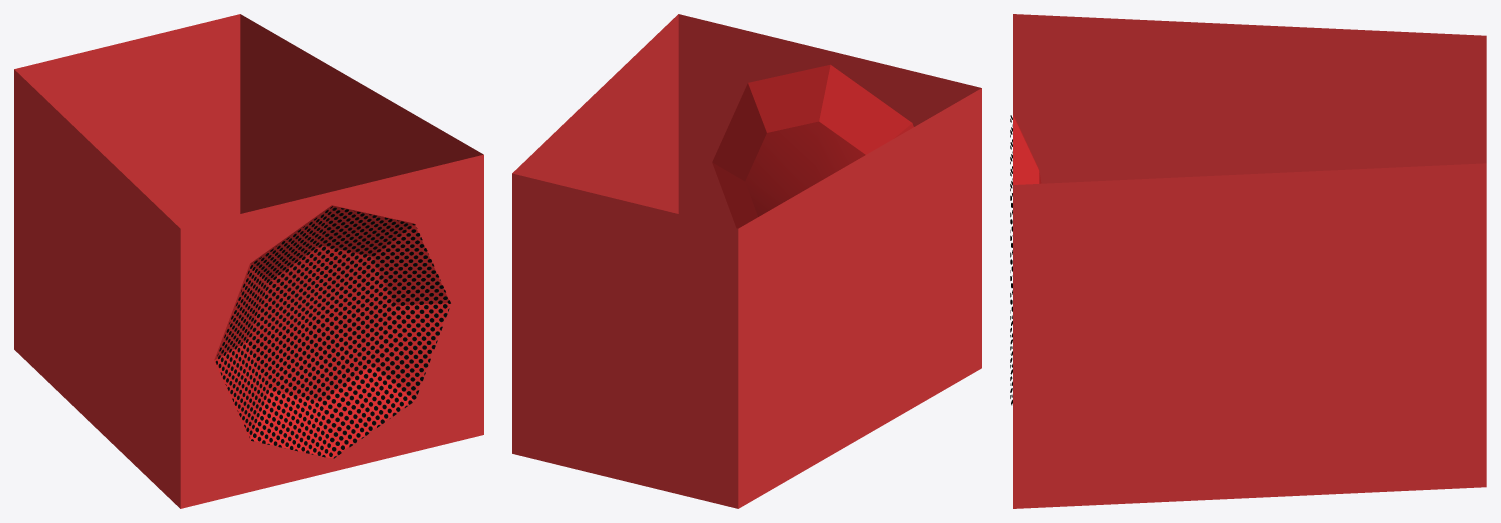
File: Itr_Obj_Speaker3_Middle_05.FBX
3 renders of one model, left to right at view 1: azimuth 30°, elevation 25°; view 2: azimuth 150°, elevation 25°; view 3: azimuth 270°, elevation 25°, orthographic. The views are drawn at different scales.
Parts seen in each view (by area): view 1: Itr_Obj_Speaker3_Middle_05; view 2: Itr_Obj_Speaker3_Middle_05; view 3: Itr_Obj_Speaker3_Middle_05.
Part boxes in pixels (box(x1,y1,x2,y2)): Itr_Obj_Speaker3_Middle_05: box(14, 14, 483, 508); Itr_Obj_Speaker3_Middle_05: box(512, 14, 981, 508); Itr_Obj_Speaker3_Middle_05: box(1010, 14, 1486, 508).
Size of the model in its own units: 9.88 by 8.72 by 11.62.
